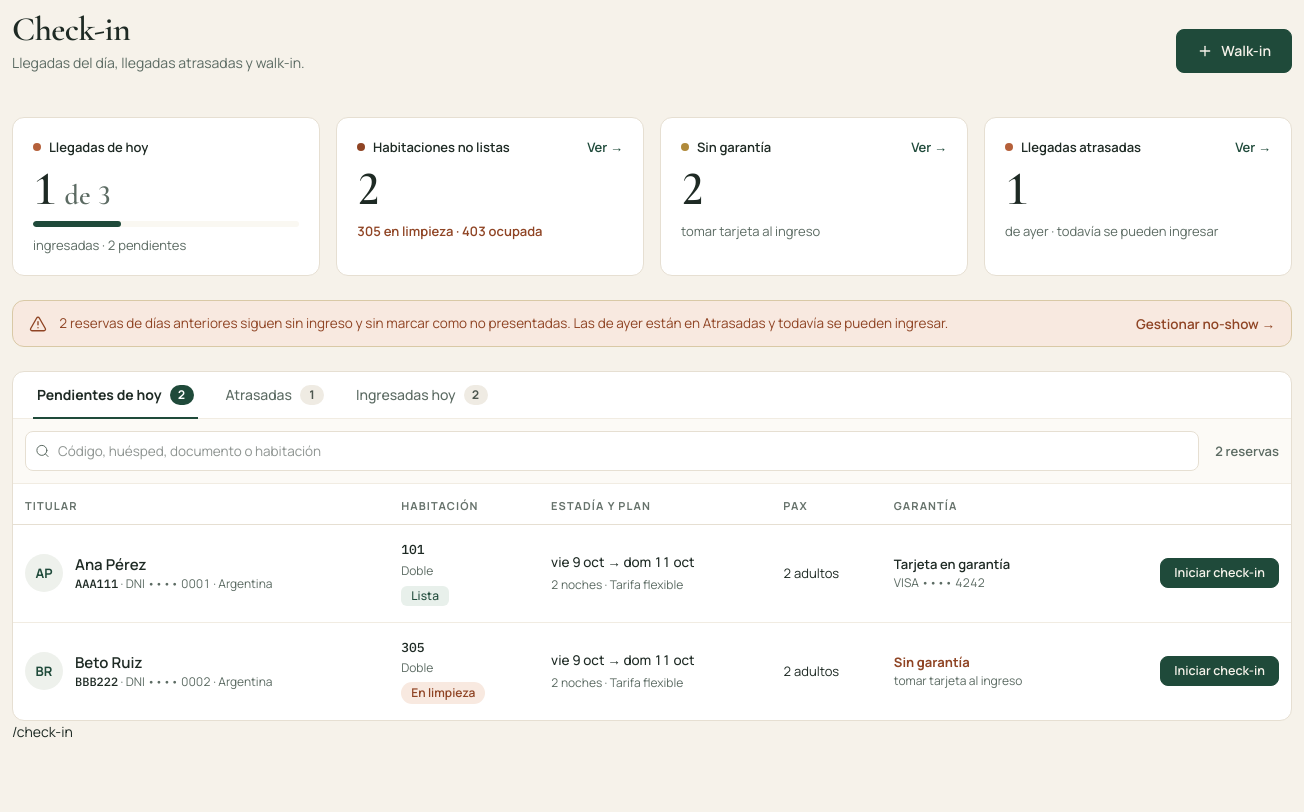
indicadores › los indicadores no cambian con la búsqueda
Expected: the text "Beto Ruiz" is shown, [75,652,142,673]
Step 1. Type "AAA" into the search field named "Buscar llegadas" → x=612, y=451, box [25,431,1199,471]
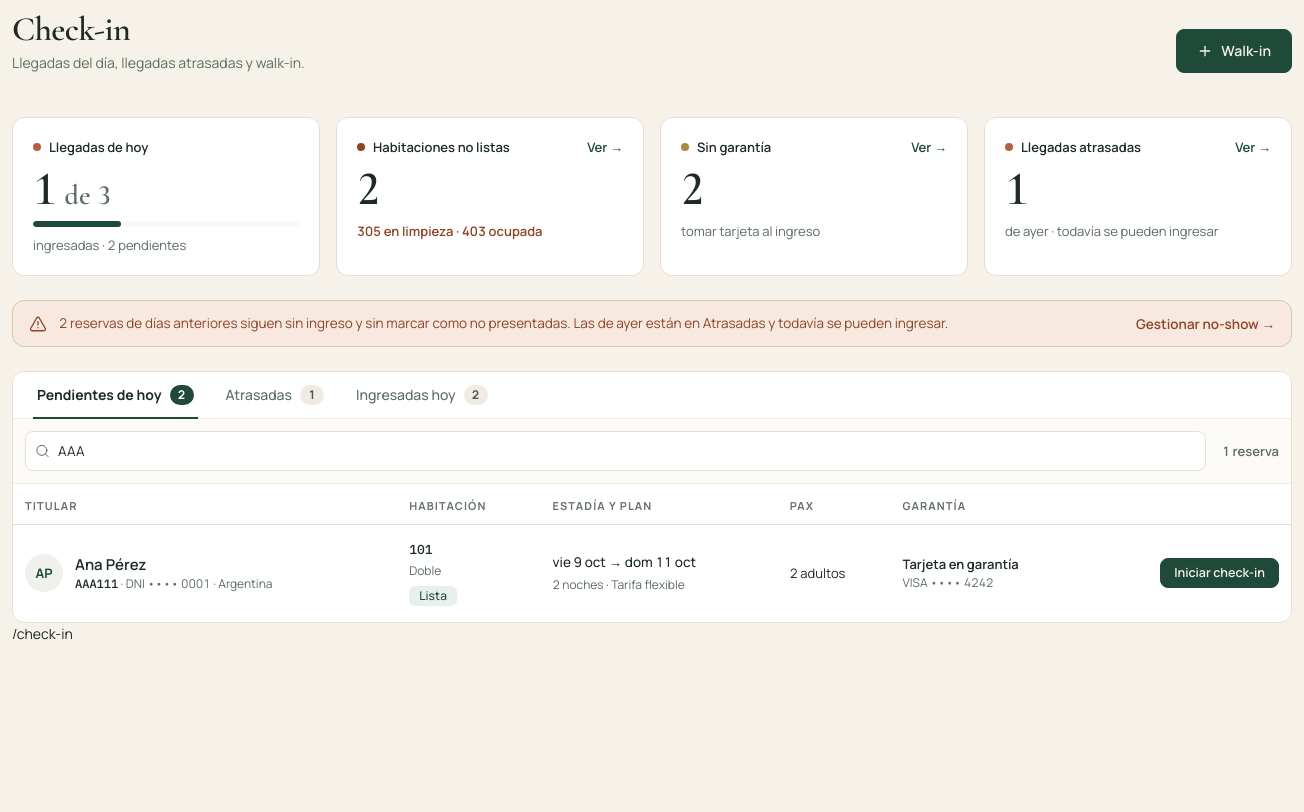
Expected: the element "Llegadas de hoy" shows "1de 3", [12,117,320,276]
Now the text "Beto Ruiz" is gone
